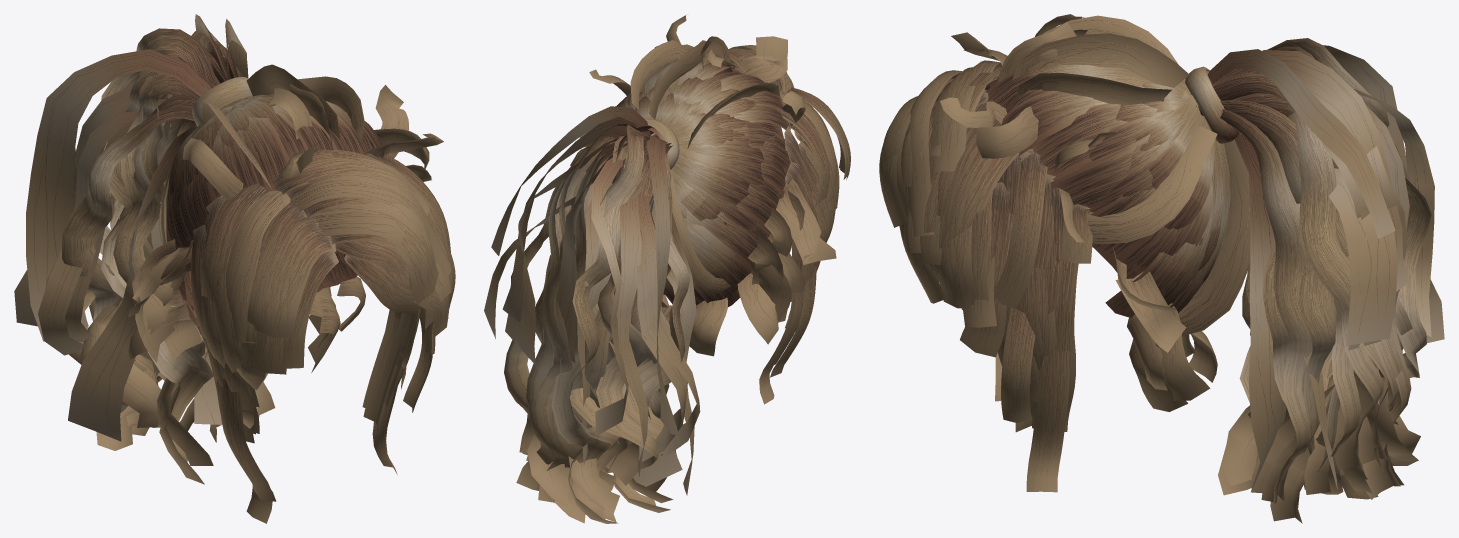
The model's file is Hair12.fbx.
3 views of the same model, side by side, from view 1: azimuth 30°, elevation 25°; view 2: azimuth 150°, elevation 25°; view 3: azimuth 270°, elevation 25° (orthographic). The views are drawn at different scales.
Visible parts, largest first — view 1: haircard vol7 hair06; view 2: haircard vol7 hair06; view 3: haircard vol7 hair06.
Part boxes in pixels (x1=…): haircard vol7 hair06: x1=14, y1=14, x2=455, y2=523; haircard vol7 hair06: x1=484, y1=15, x2=850, y2=523; haircard vol7 hair06: x1=879, y1=14, x2=1444, y2=523.
Size of the model in its own units: 24.43 by 35.13 by 37.52.
Materials: 1 (1 with a texture image).
